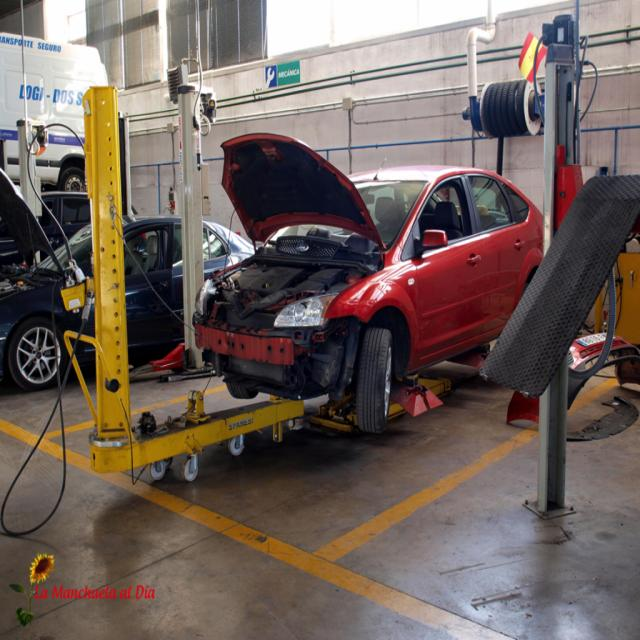car: (186, 132, 542, 458)
